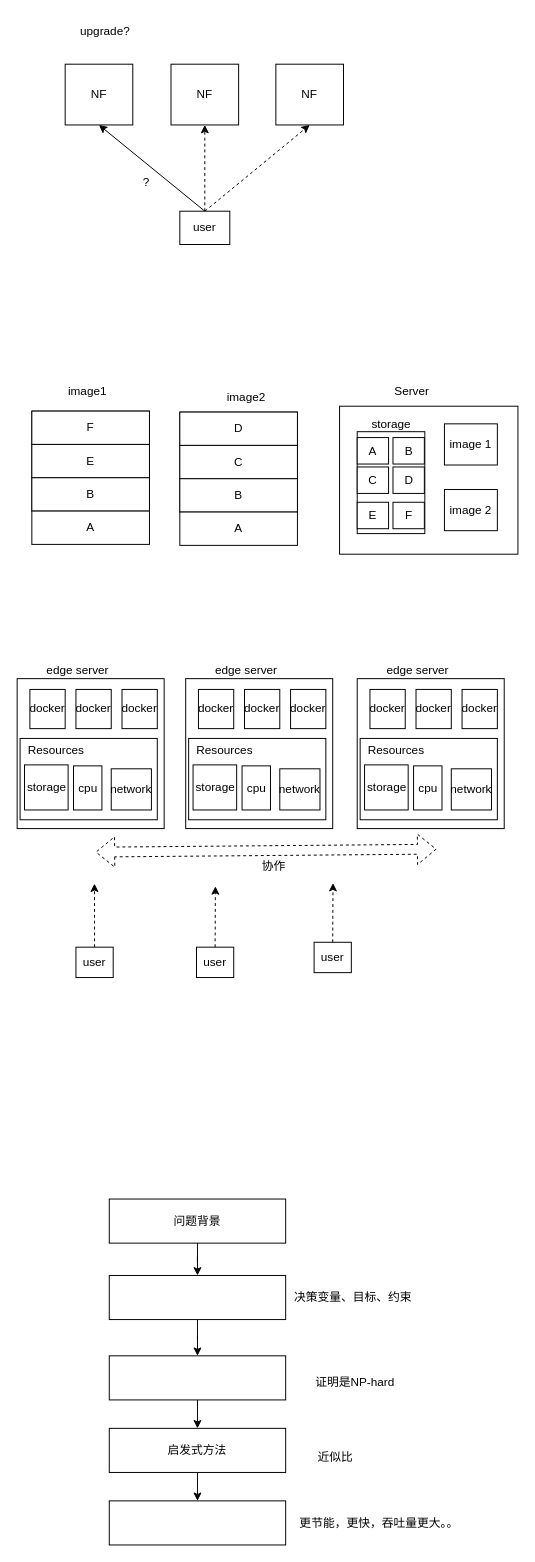
This 535x1562 diagram has some shape labels left out. The centre of each missing label's shape, as x and y in pixels:
实验: point 197,1522
建模: point 197,1377
形式化: point 197,1297
